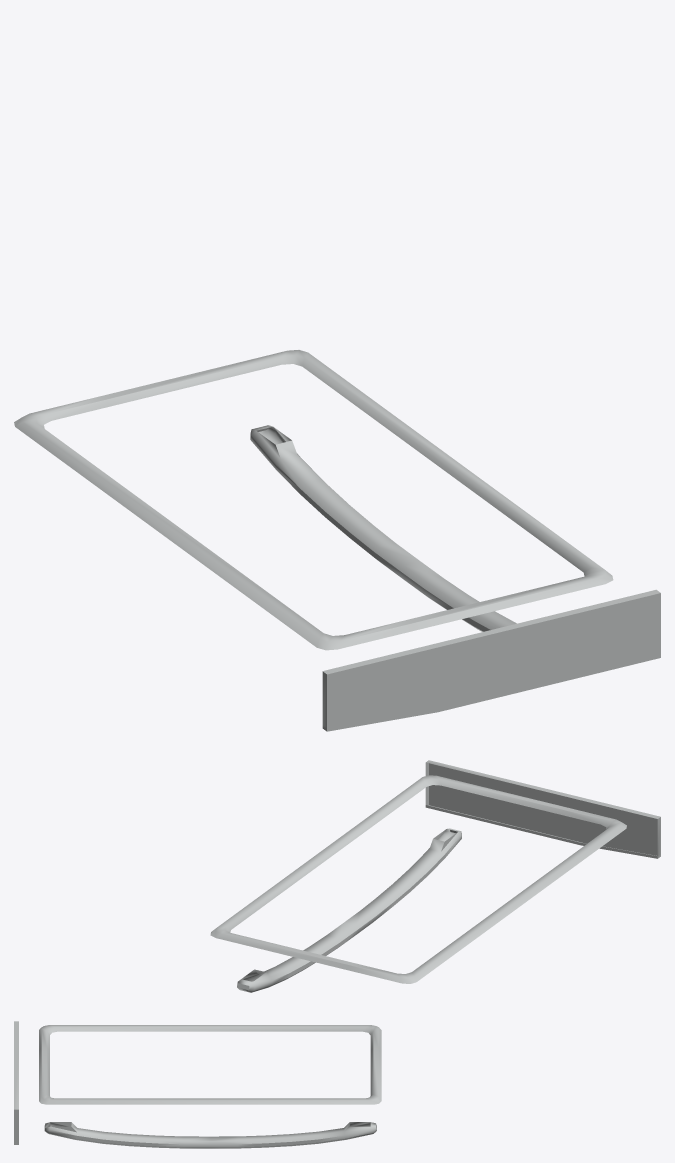
The model's file is MeshFridgeMaindoor2C3_5_GeomSubset_1.obj.
3 renders of one model, top to bottom at view 1: azimuth 30°, elevation 25°; view 2: azimuth 150°, elevation 25°; view 3: azimuth 270°, elevation 25°, orthographic. The views are drawn at different scales.
Parts seen in each view (by area): view 1: MeshFridgeMaindoor2C3_5_GeomSubset_1; view 2: MeshFridgeMaindoor2C3_5_GeomSubset_1; view 3: MeshFridgeMaindoor2C3_5_GeomSubset_1.
Part boxes in pixels (<box>): MeshFridgeMaindoor2C3_5_GeomSubset_1: <box>14,350,660,731</box>; MeshFridgeMaindoor2C3_5_GeomSubset_1: <box>210,760,660,992</box>; MeshFridgeMaindoor2C3_5_GeomSubset_1: <box>14,1021,381,1148</box>.
Bounding box in the file's own units: 0.5677 × 0.3943 × 1.76.
